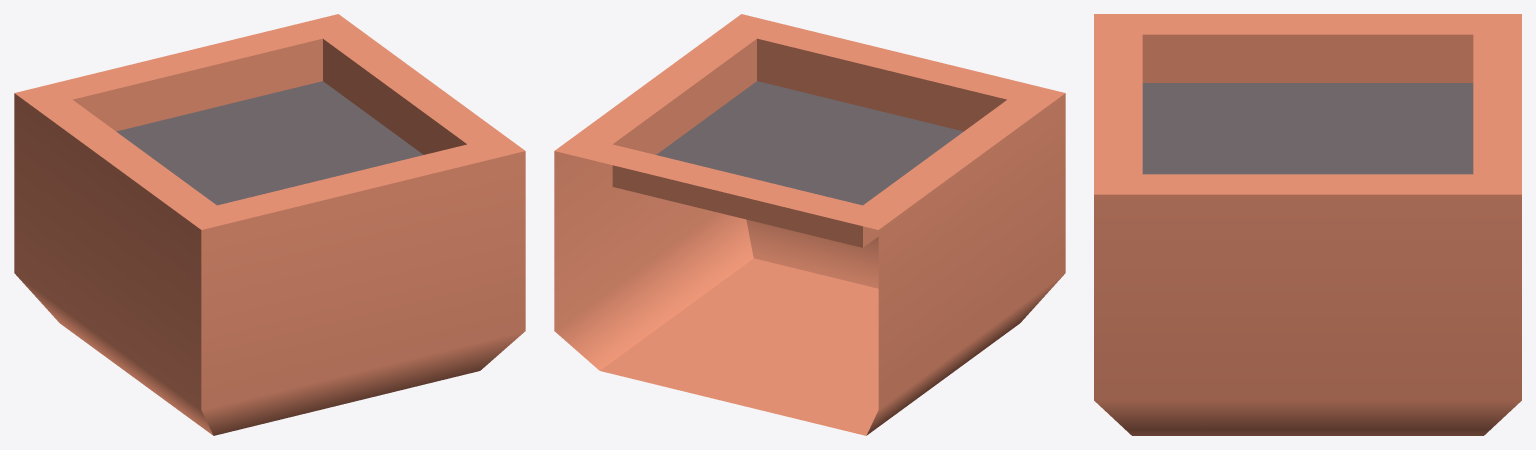
File: PlantPot.fbx
3 views of the same model, side by side, from view 1: azimuth 30°, elevation 25°; view 2: azimuth 150°, elevation 25°; view 3: azimuth 270°, elevation 25° (orthographic). The views are drawn at different scales.
Visible parts, largest first — view 1: PlantPot; view 2: PlantPot; view 3: PlantPot.
Boxes of the visible parts, <box> form: PlantPot: <box>14,14,525,435</box>; PlantPot: <box>554,14,1065,435</box>; PlantPot: <box>1094,14,1521,435</box>.
Bounding box in the file's own units: 4.34 × 2.88 × 4.34.
